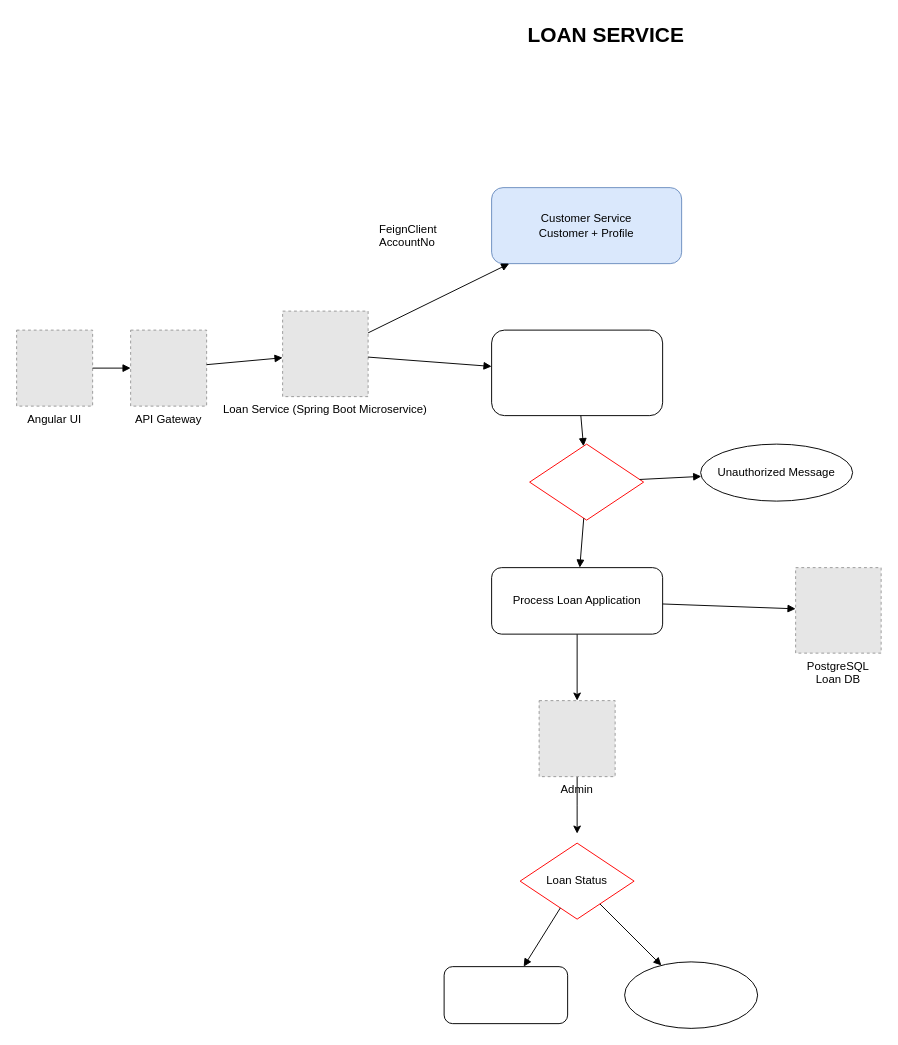
Image size: 898x1045. Some labels were removed from this diagram. Grey dashed boxes stand in for pictures. The centre of each missing label's shape, as x and y in pixels:
Authorized User?: the point at 586,481
Loan Approved: the point at 505,995
Loan Rejected: the point at 691,994
User Input Loan Amount Tenure Loan Type: the point at 577,372
